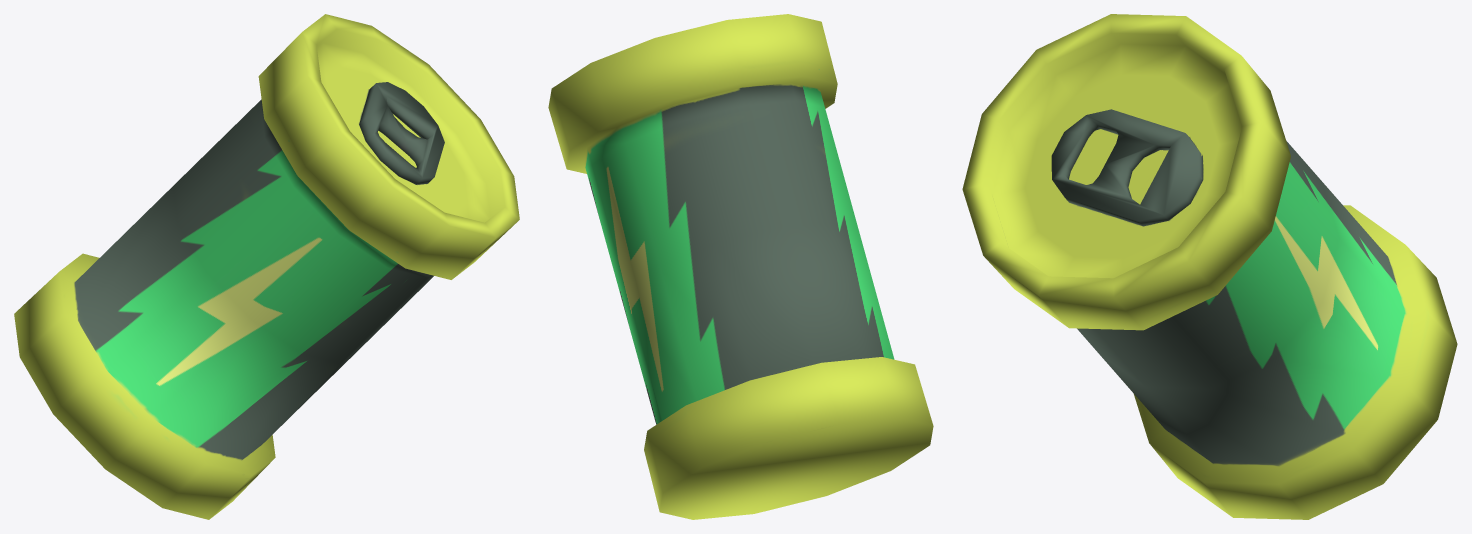
Rendered from nuoc tang luc.fbx.
3 views of the same model, side by side, from view 1: azimuth 30°, elevation 25°; view 2: azimuth 150°, elevation 25°; view 3: azimuth 270°, elevation 25° (orthographic). The views are drawn at different scales.
Visible parts, largest first — view 1: Cylinder.003; view 2: Cylinder.003; view 3: Cylinder.003.
Boxes of the visible parts, x1,y1,x2,y2 form: Cylinder.003: [14, 14, 519, 519]; Cylinder.003: [548, 14, 933, 519]; Cylinder.003: [962, 14, 1457, 519].
Size of the model in its own units: 43.33 by 50.98 by 46.1.
1 material, 1 textured.
